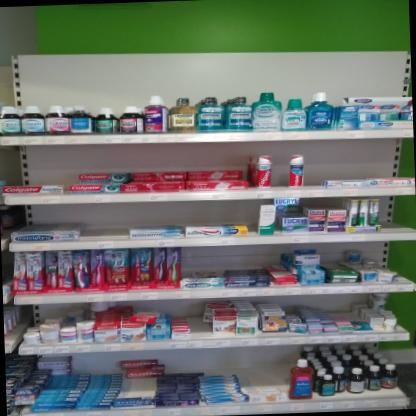empty_space: (86, 204, 125, 239), (243, 371, 287, 390), (377, 199, 403, 229), (306, 155, 324, 187), (274, 155, 291, 188), (246, 206, 259, 235), (193, 320, 210, 336)
